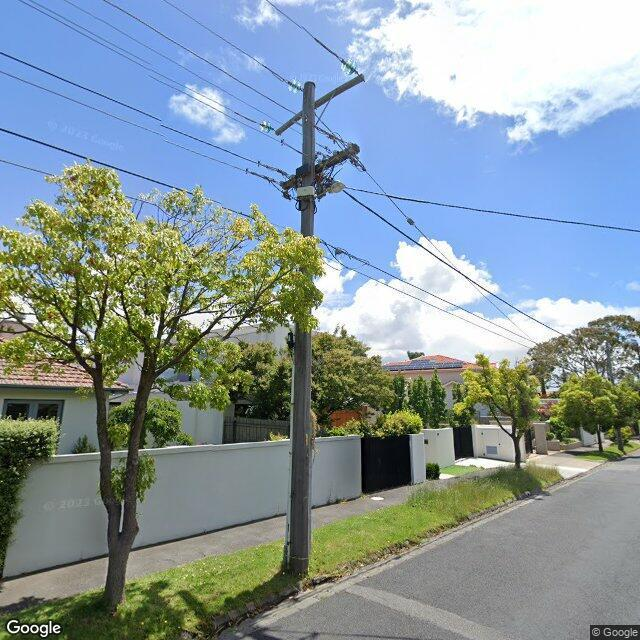HV-transmission: (258, 58, 367, 136)
crossarm: (244, 136, 368, 191), (275, 74, 366, 135)
timber-pole: (283, 81, 317, 575)
